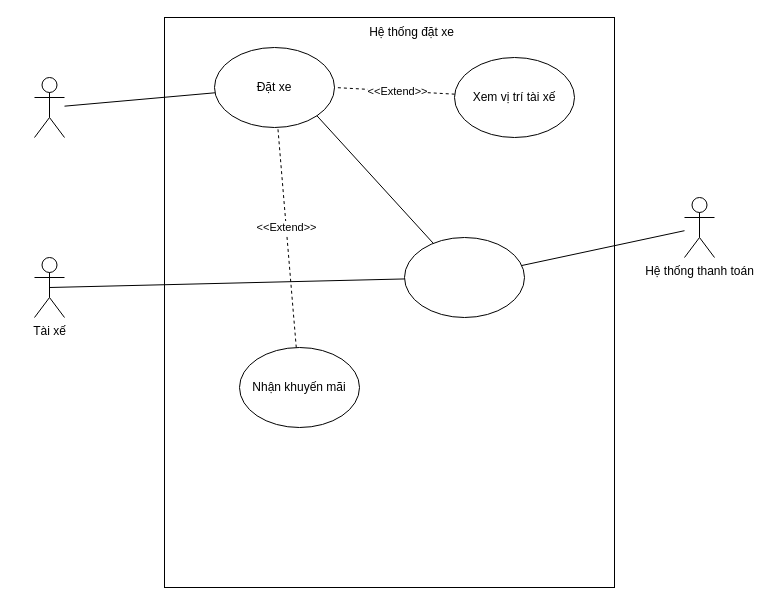
Image size: 771x605. Some labels were removed from this diagram. Each missing label, with the centre of its shape:
"Khách hàng" belongs at pixel 49 107.
"Thanh toán" belongs at pixel 464 277.
